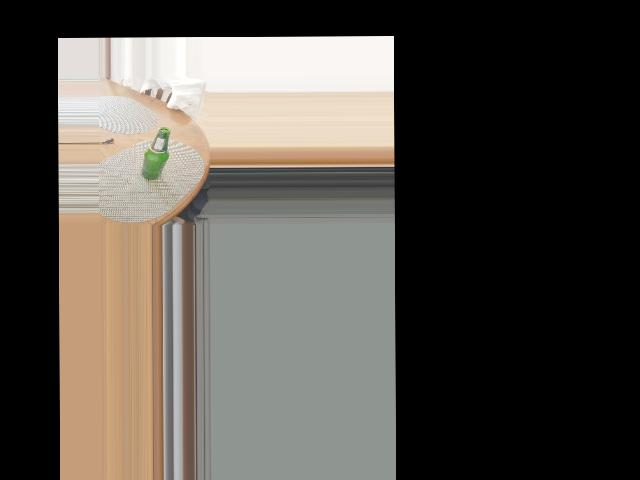beer: (141, 127, 169, 179)
